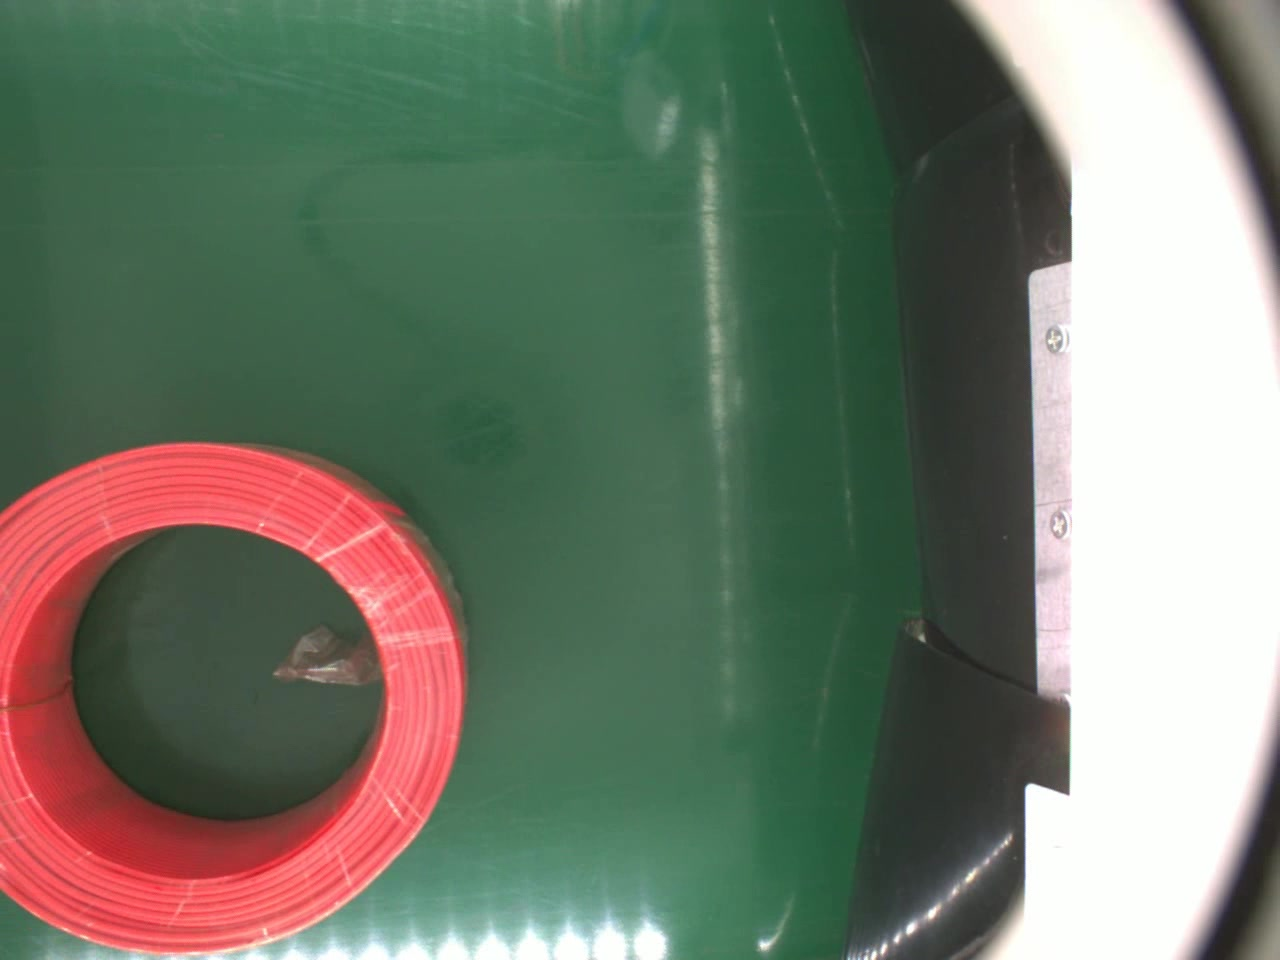red: (0, 436, 470, 960)
